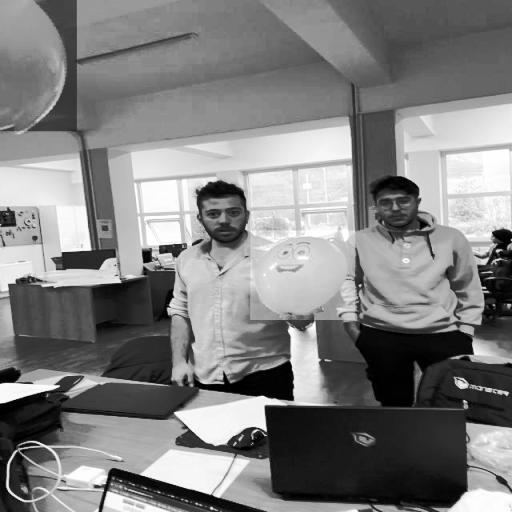balloon: (0, 0, 77, 131), (250, 231, 356, 320)
